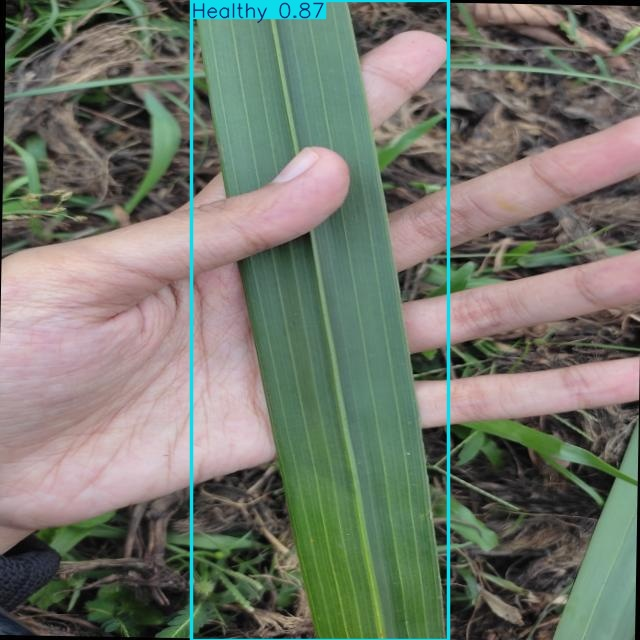Healthy: (192, 0, 449, 640)
